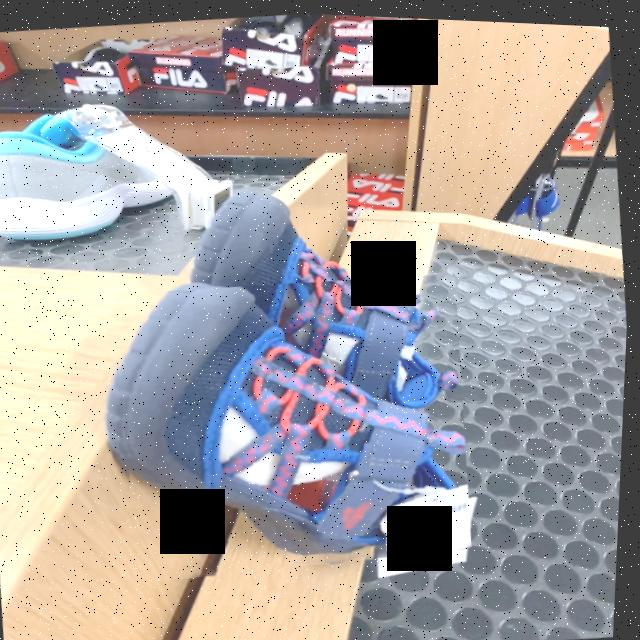shoe: (127, 285, 473, 558)
